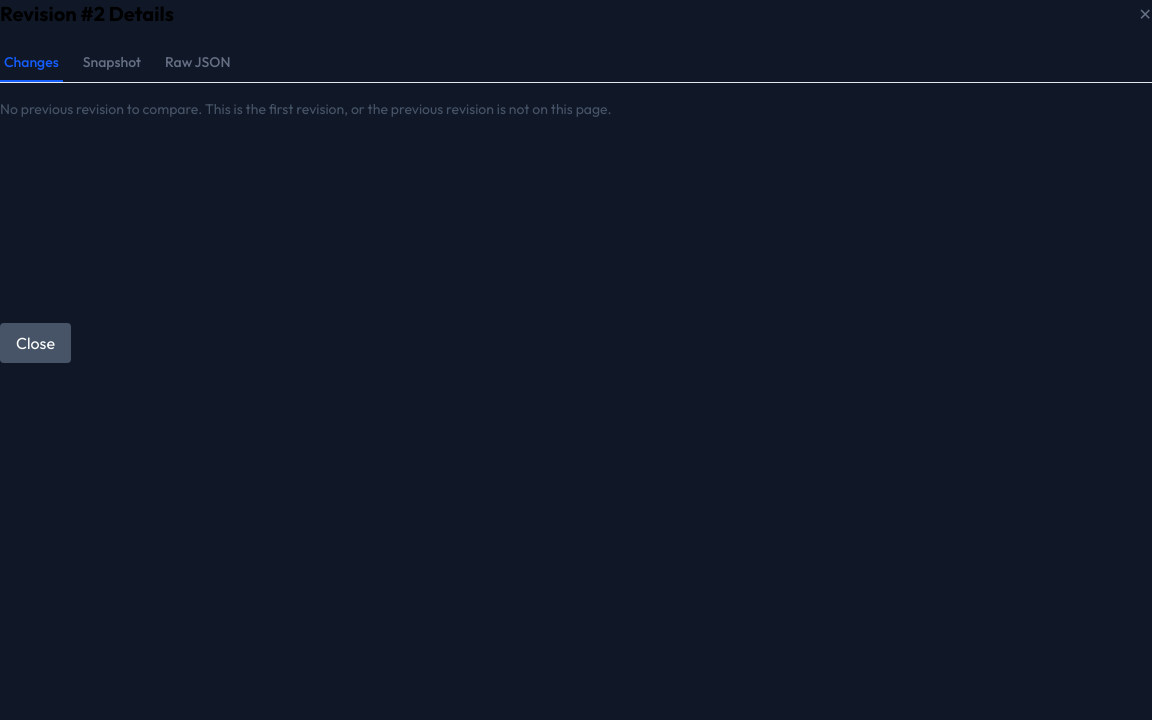
Test: RevisionDetailsTabs › tab switching still works after viewing Snapshot
Click the button "Snapshot" at (112, 63), box [79, 44, 145, 82]
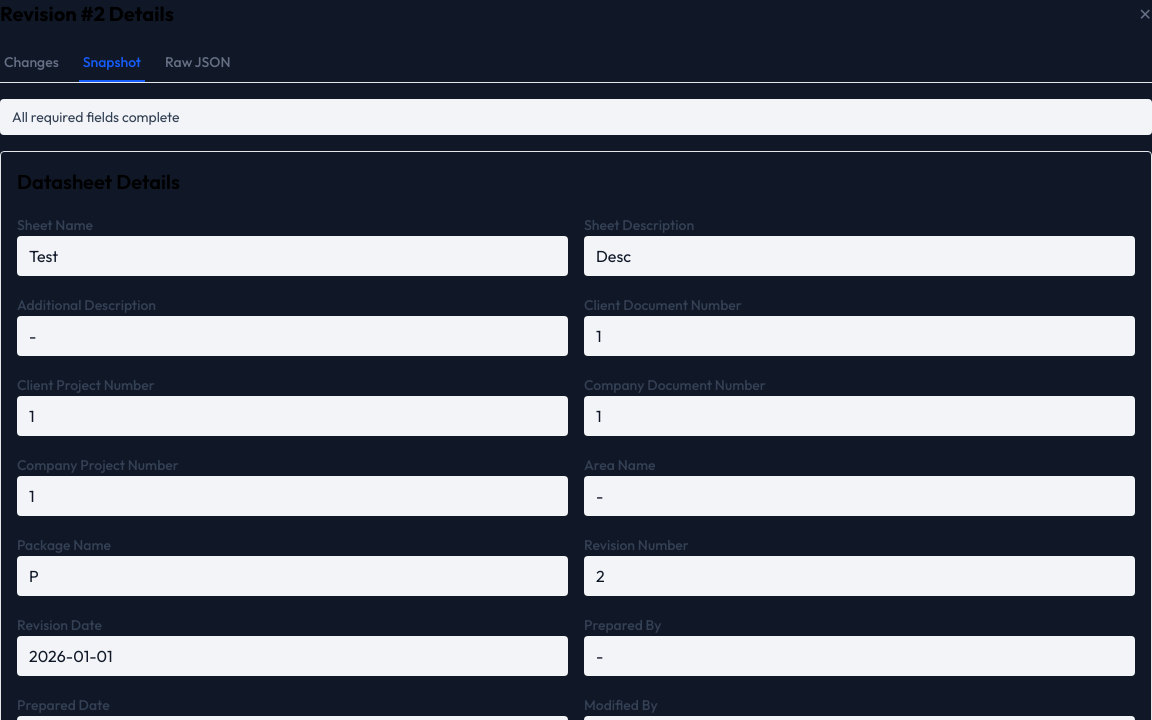
Check: the text "Datasheet Details" is shown, box [17, 169, 180, 194]
Click the button "Raw JSON" at (198, 63), box [161, 44, 234, 82]
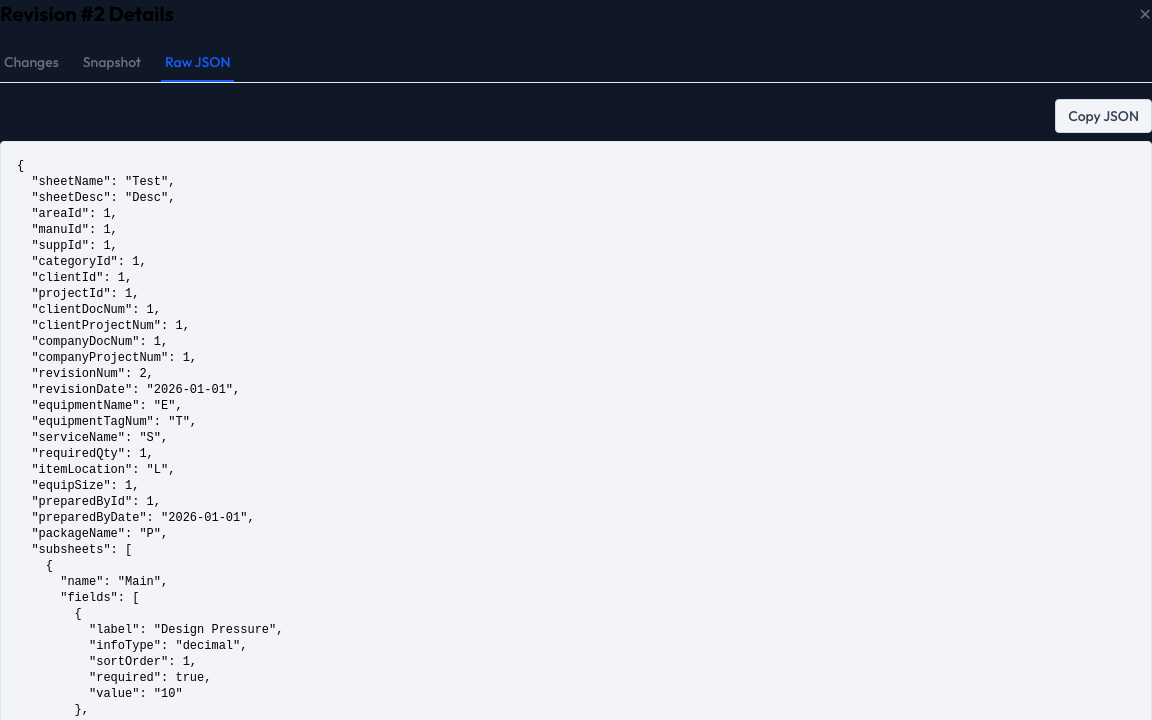
Check: the button "Copy JSON" is shown, box [1055, 99, 1151, 133]
Click the button "Changes" at (31, 63), box [0, 44, 63, 82]
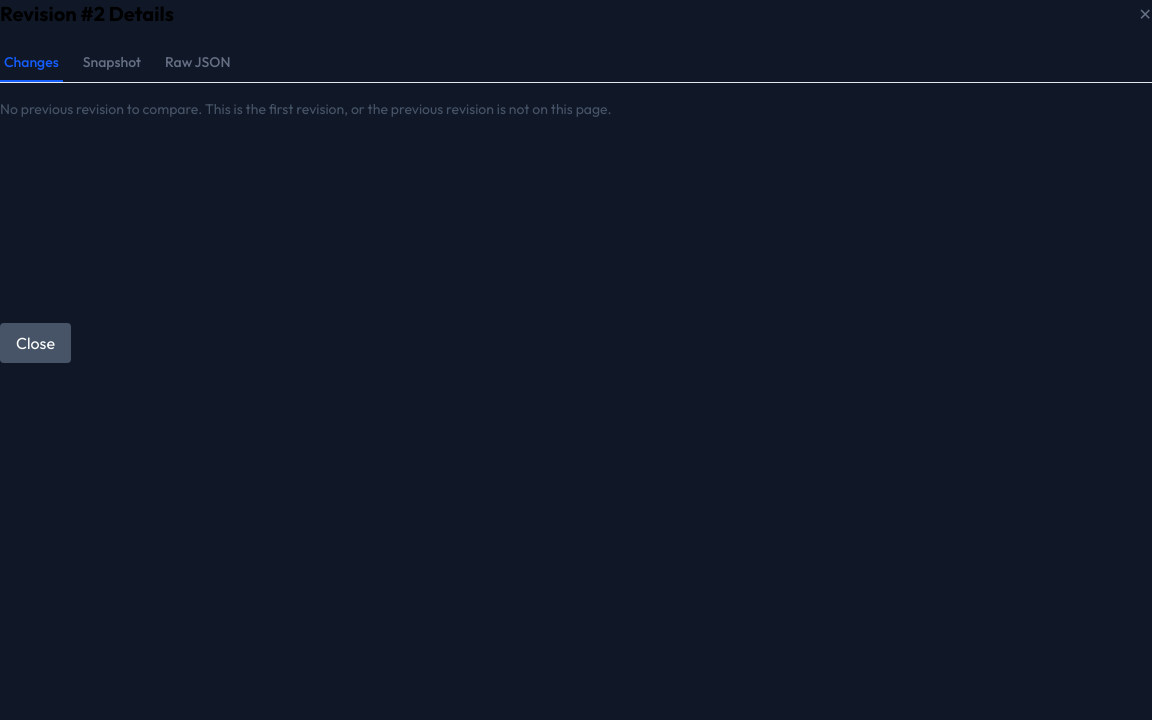
Check: the text "No previous revision to compare" is shown, box [0, 100, 612, 118]
